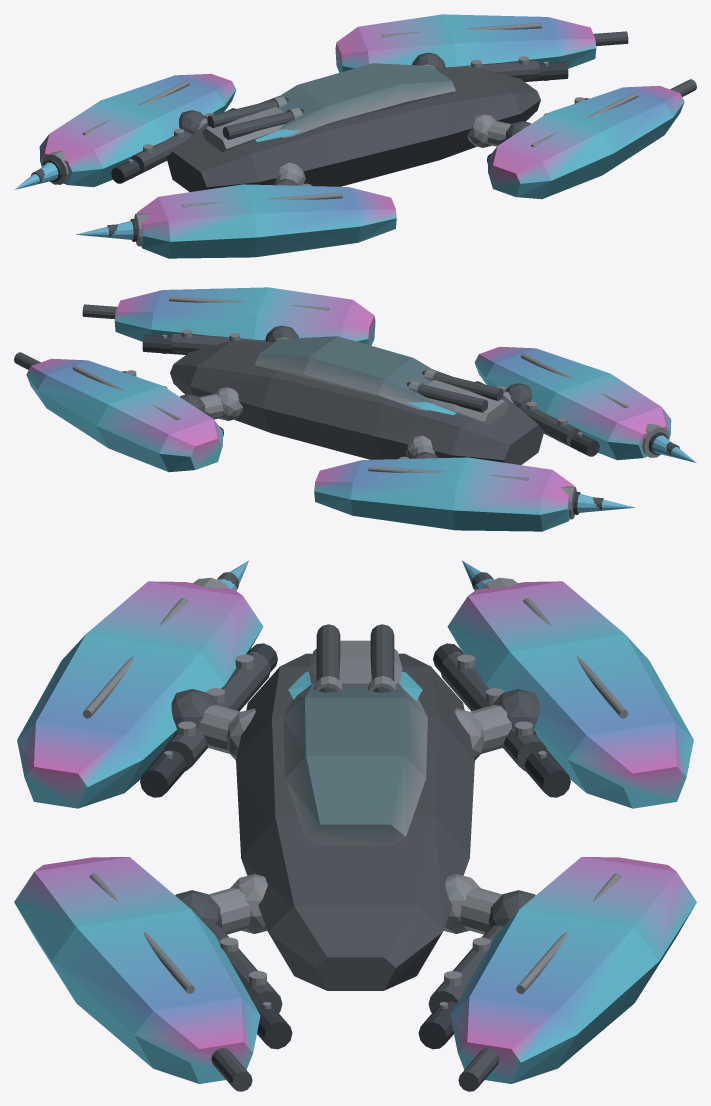
Rendered from x5_neon_compact_flight.glb.
3 views of the same model, one above another, from view 1: azimuth 30°, elevation 25°; view 2: azimuth 150°, elevation 25°; view 3: azimuth 270°, elevation 25° (orthographic). The views are drawn at different scales.
Visible parts, largest first — view 1: pod_armor_10, center_hull_0, cabin_base_1, pod_mechanics_16, missile_body_3, pod_rail_11, launcher_saddle_2, outer_joint_9, inner_drive_rail_18, engine_flame_15, inner_joint_7, forward_gun_12 (+3 smaller); view 2: pod_armor_10, center_hull_0, cabin_base_1, pod_mechanics_16, missile_body_3, pod_rail_11, launcher_saddle_2, outer_joint_9, inner_drive_rail_18, engine_flame_15, inner_joint_7, forward_gun_12 (+3 smaller); view 3: pod_armor_10, center_hull_0, cabin_base_1, pod_mechanics_16, inner_drive_rail_18, mechanical_arms_8, outer_joint_9, inner_joint_7, pod_rail_11, missile_body_3, mechanical_crossbeam_17, forward_gun_12 (+1 smaller).
Part boxes in pixels (bbox=[...]): pod_armor_10: bbox=[39, 14, 684, 258]; center_hull_0: bbox=[166, 67, 540, 191]; cabin_base_1: bbox=[278, 63, 455, 137]; pod_mechanics_16: bbox=[131, 60, 589, 173]; missile_body_3: bbox=[207, 98, 302, 139]; pod_rail_11: bbox=[82, 23, 638, 207]; launcher_saddle_2: bbox=[202, 106, 284, 152]; outer_joint_9: bbox=[179, 52, 530, 185]; inner_drive_rail_18: bbox=[111, 61, 568, 183]; engine_flame_15: bbox=[14, 162, 133, 239]; inner_joint_7: bbox=[278, 114, 496, 185]; forward_gun_12: bbox=[31, 31, 696, 236]; pod_armor_10: bbox=[26, 287, 671, 531]; center_hull_0: bbox=[170, 340, 544, 464]; cabin_base_1: bbox=[255, 336, 432, 410]; pod_mechanics_16: bbox=[121, 333, 579, 446]; missile_body_3: bbox=[408, 371, 503, 412]; pod_rail_11: bbox=[72, 296, 628, 480]; launcher_saddle_2: bbox=[427, 379, 508, 425]; outer_joint_9: bbox=[180, 325, 531, 458]; inner_drive_rail_18: bbox=[142, 334, 599, 456]; engine_flame_15: bbox=[577, 435, 696, 512]; inner_joint_7: bbox=[214, 387, 432, 458]; forward_gun_12: bbox=[14, 304, 679, 509]; pod_armor_10: bbox=[14, 581, 696, 1083]; center_hull_0: bbox=[236, 653, 474, 990]; cabin_base_1: bbox=[283, 683, 427, 845]; pod_mechanics_16: bbox=[163, 652, 547, 1012]; inner_drive_rail_18: bbox=[140, 643, 570, 1049]; mechanical_arms_8: bbox=[198, 705, 512, 934]; outer_joint_9: bbox=[171, 689, 539, 928]; inner_joint_7: bbox=[226, 708, 484, 933]; pod_rail_11: bbox=[82, 598, 628, 993]; missile_body_3: bbox=[316, 624, 394, 691]; mechanical_crossbeam_17: bbox=[178, 654, 532, 985]; forward_gun_12: bbox=[211, 572, 499, 1091].
Bounding box in the file's own units: 7.38 × 0.9 × 4.06.
